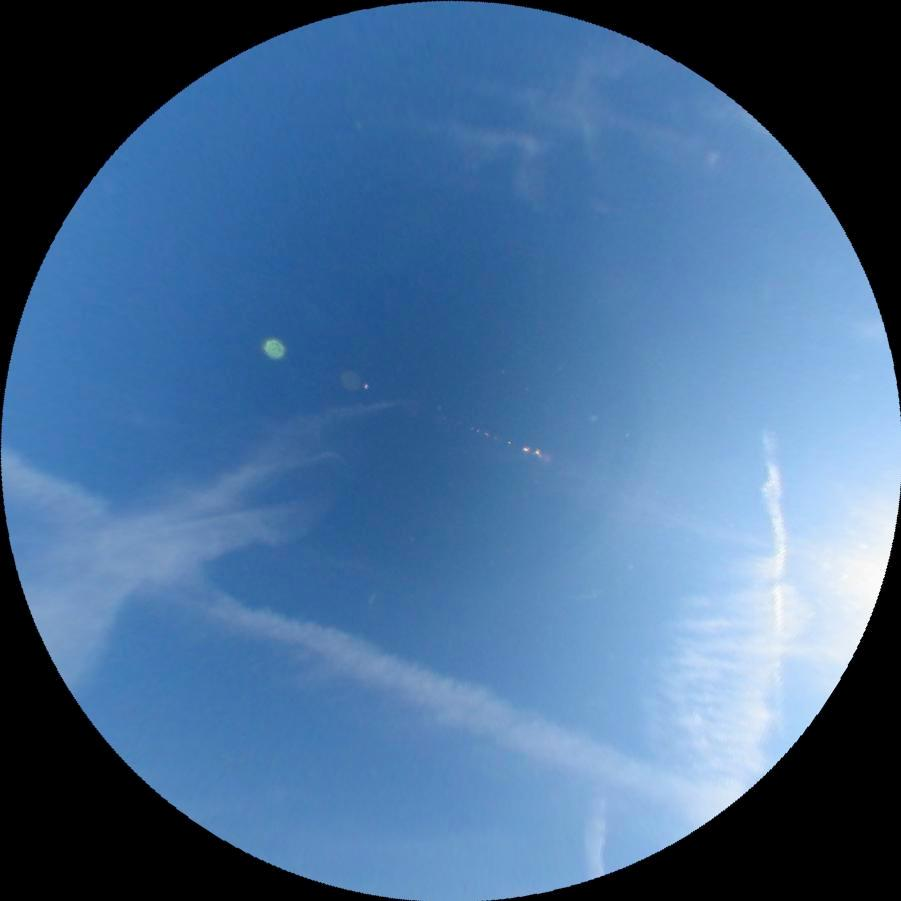contrail old: (754, 431, 799, 740), (582, 799, 609, 880)
contrail veryold: (0, 449, 706, 837), (612, 531, 826, 841)
